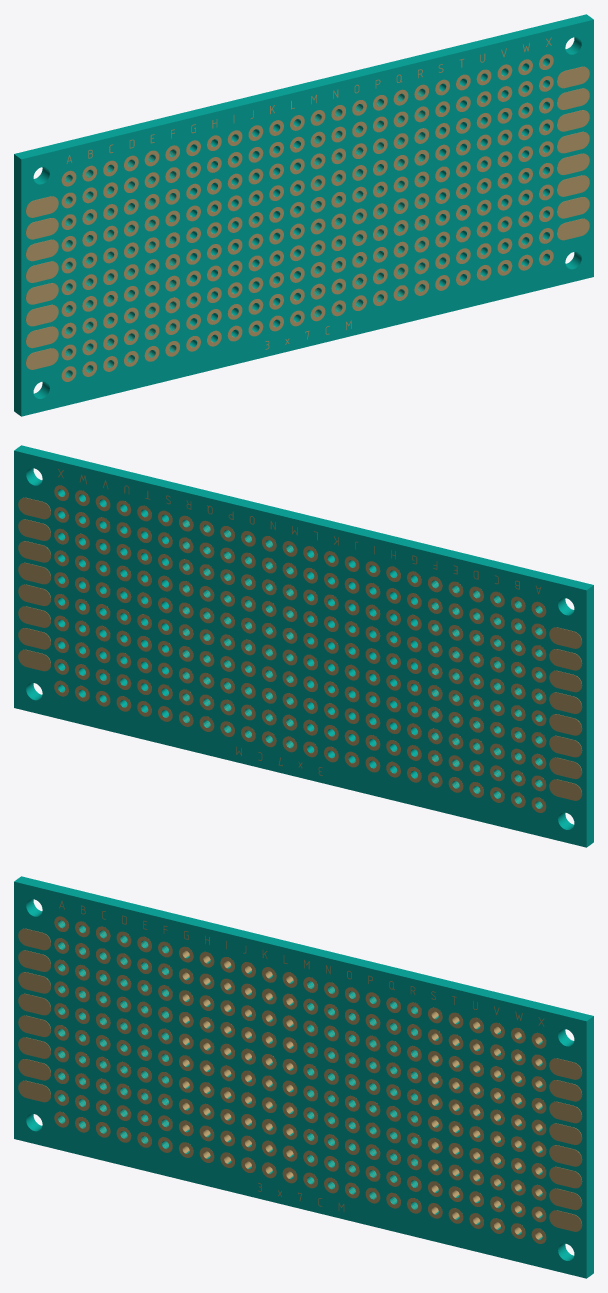
File: pcb_board.glb
3 renders of one model, top to bottom at view 1: azimuth 30°, elevation 25°; view 2: azimuth 150°, elevation 25°; view 3: azimuth 330°, elevation 25°, orthographic.
Parts seen in each view (by area): view 1: currentmodel.wrl.cleaner.materialmerger.gles; view 2: currentmodel.wrl.cleaner.materialmerger.gles; view 3: currentmodel.wrl.cleaner.materialmerger.gles.
Part boxes in pixels (x1,y1,x2,y2): currentmodel.wrl.cleaner.materialmerger.gles: (14, 14, 593, 416); currentmodel.wrl.cleaner.materialmerger.gles: (14, 445, 593, 847); currentmodel.wrl.cleaner.materialmerger.gles: (14, 876, 593, 1278).
Bounding box in the file's own units: 66.95 × 28.75 × 1.58.
